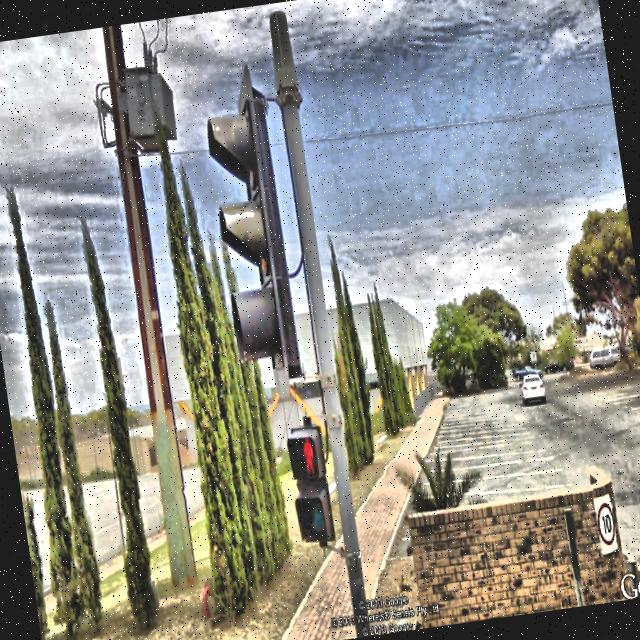red_light: (298, 433, 318, 478)
